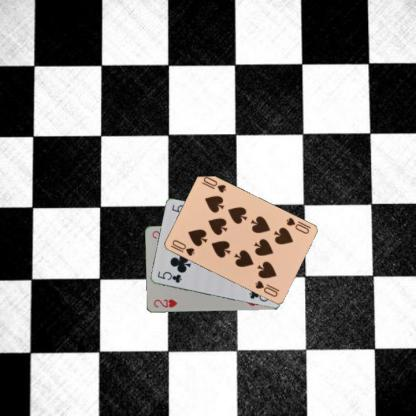10s: (170, 237, 196, 257), (284, 215, 310, 235)
2h: (151, 297, 178, 309)
5c: (155, 269, 182, 284)
